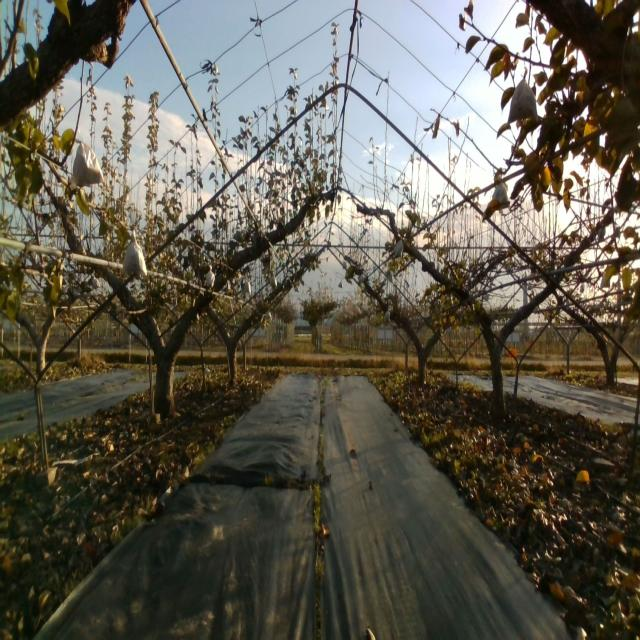pearbags: (508, 68, 538, 126), (72, 135, 104, 187), (122, 230, 147, 278), (491, 184, 510, 202), (393, 237, 404, 257)
